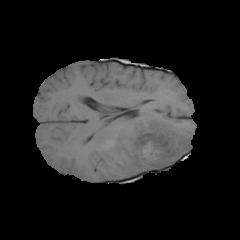glioma: (114, 112, 192, 173)
